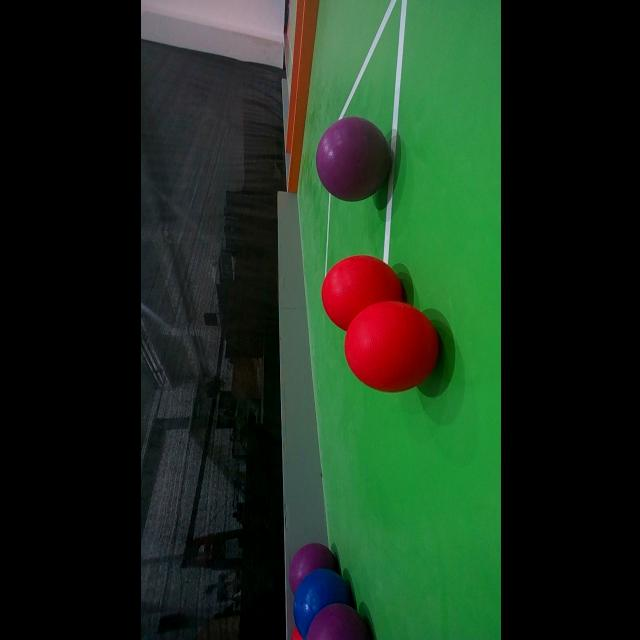B: (292, 568, 352, 640)
P: (315, 116, 391, 202), (284, 540, 338, 590), (312, 608, 368, 640)
R: (344, 302, 438, 392), (318, 256, 404, 332)
